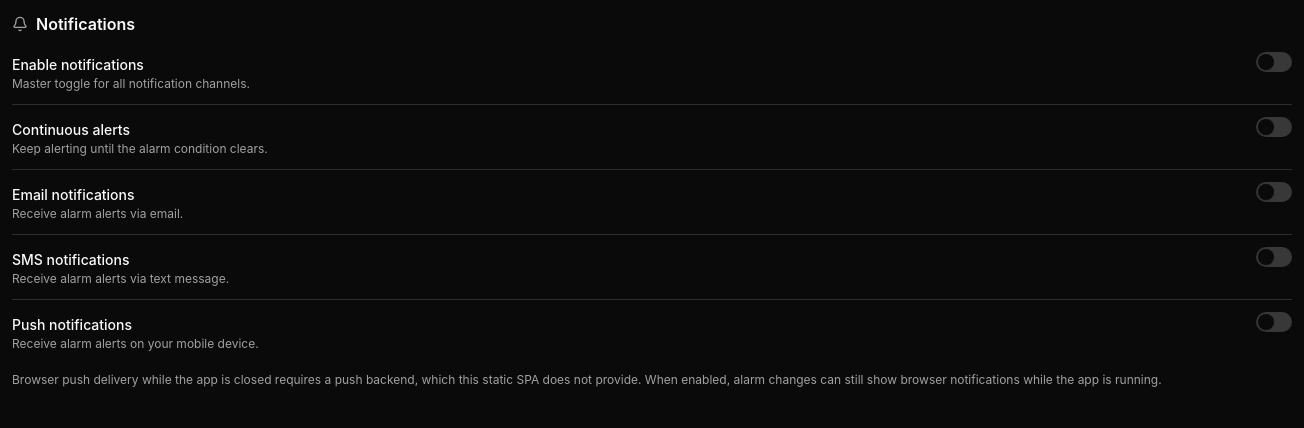
Test: NotificationPrefs › auto-save on toggle › shows error message on update failure
What coordinates should you click on to do the following:
click the switch named "sms notifications" in the row of "SMS notifications"
I would click on:
 (1274, 257)
Its box is [1256,247,1292,267].
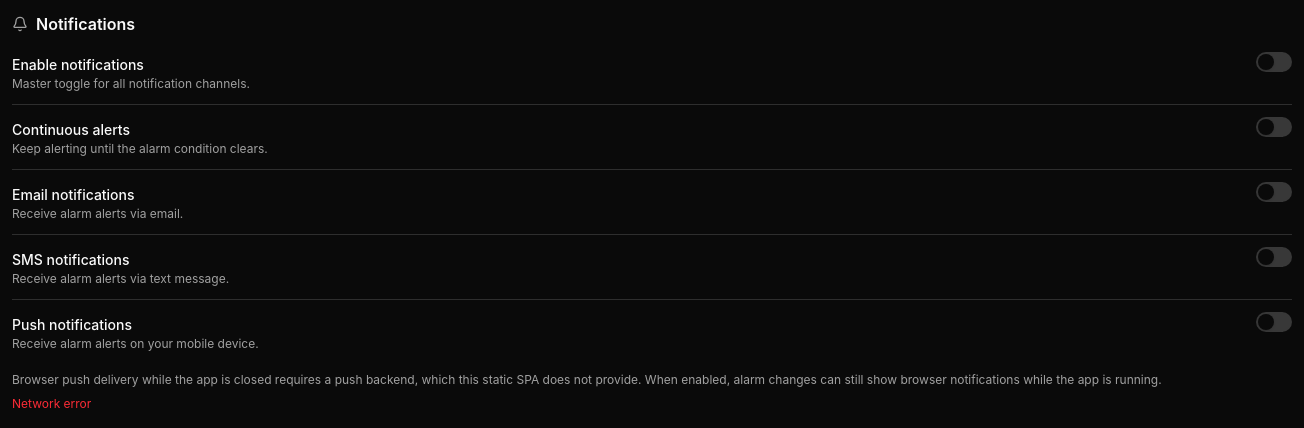
Expected: the text "Network error" is shown, [12,396,91,411]
